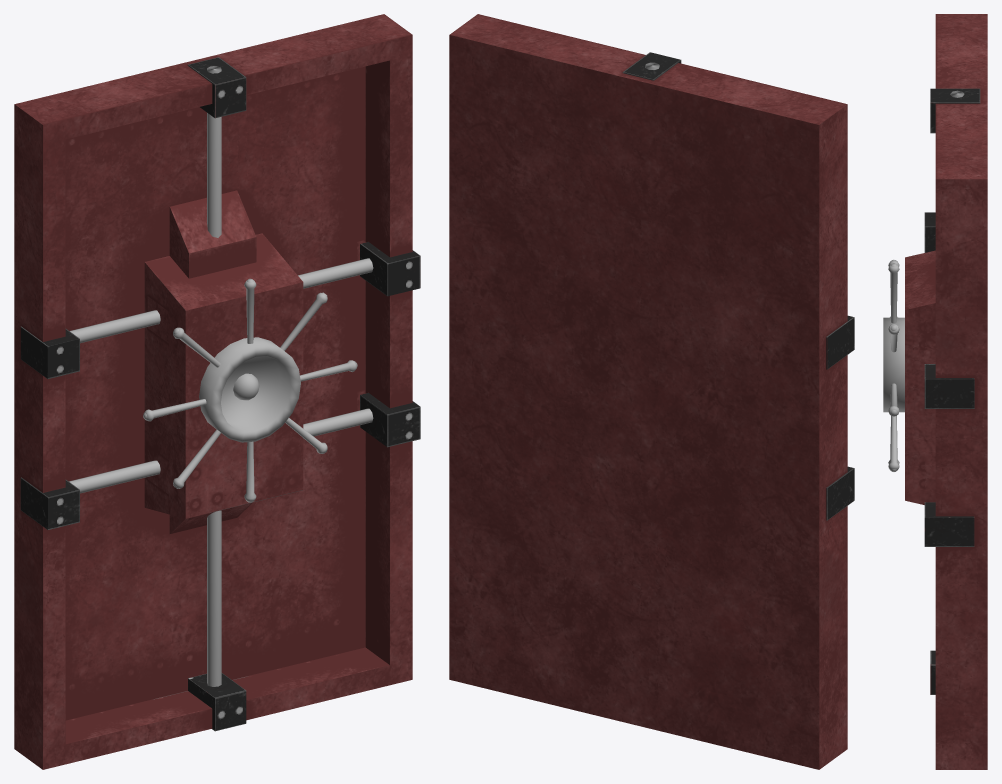
Rendered from Vault_Door.fbx.
The picture shows the model from 3 angles, left to right: view 1: azimuth 30°, elevation 25°; view 2: azimuth 150°, elevation 25°; view 3: azimuth 270°, elevation 25°; orthographic projection. The views are drawn at different scales.
Visible parts, largest first — view 1: MetalGate, Valve, LeftBar, BottomBar, RightBar, TopBar; view 2: MetalGate; view 3: MetalGate, Valve.
Part boxes in pixels (box(x1,y1,x2,y2)): MetalGate: box(14, 14, 420, 769); Valve: box(143, 278, 357, 502); LeftBar: box(69, 310, 160, 493); BottomBar: box(207, 510, 221, 686); RightBar: box(298, 258, 373, 438); TopBar: box(207, 66, 221, 237); MetalGate: box(449, 14, 854, 769); MetalGate: box(905, 14, 987, 769); Valve: box(883, 259, 904, 471).
Bounding box in the file's own units: 151 × 40.07 × 252.
2 materials, 2 textured.
